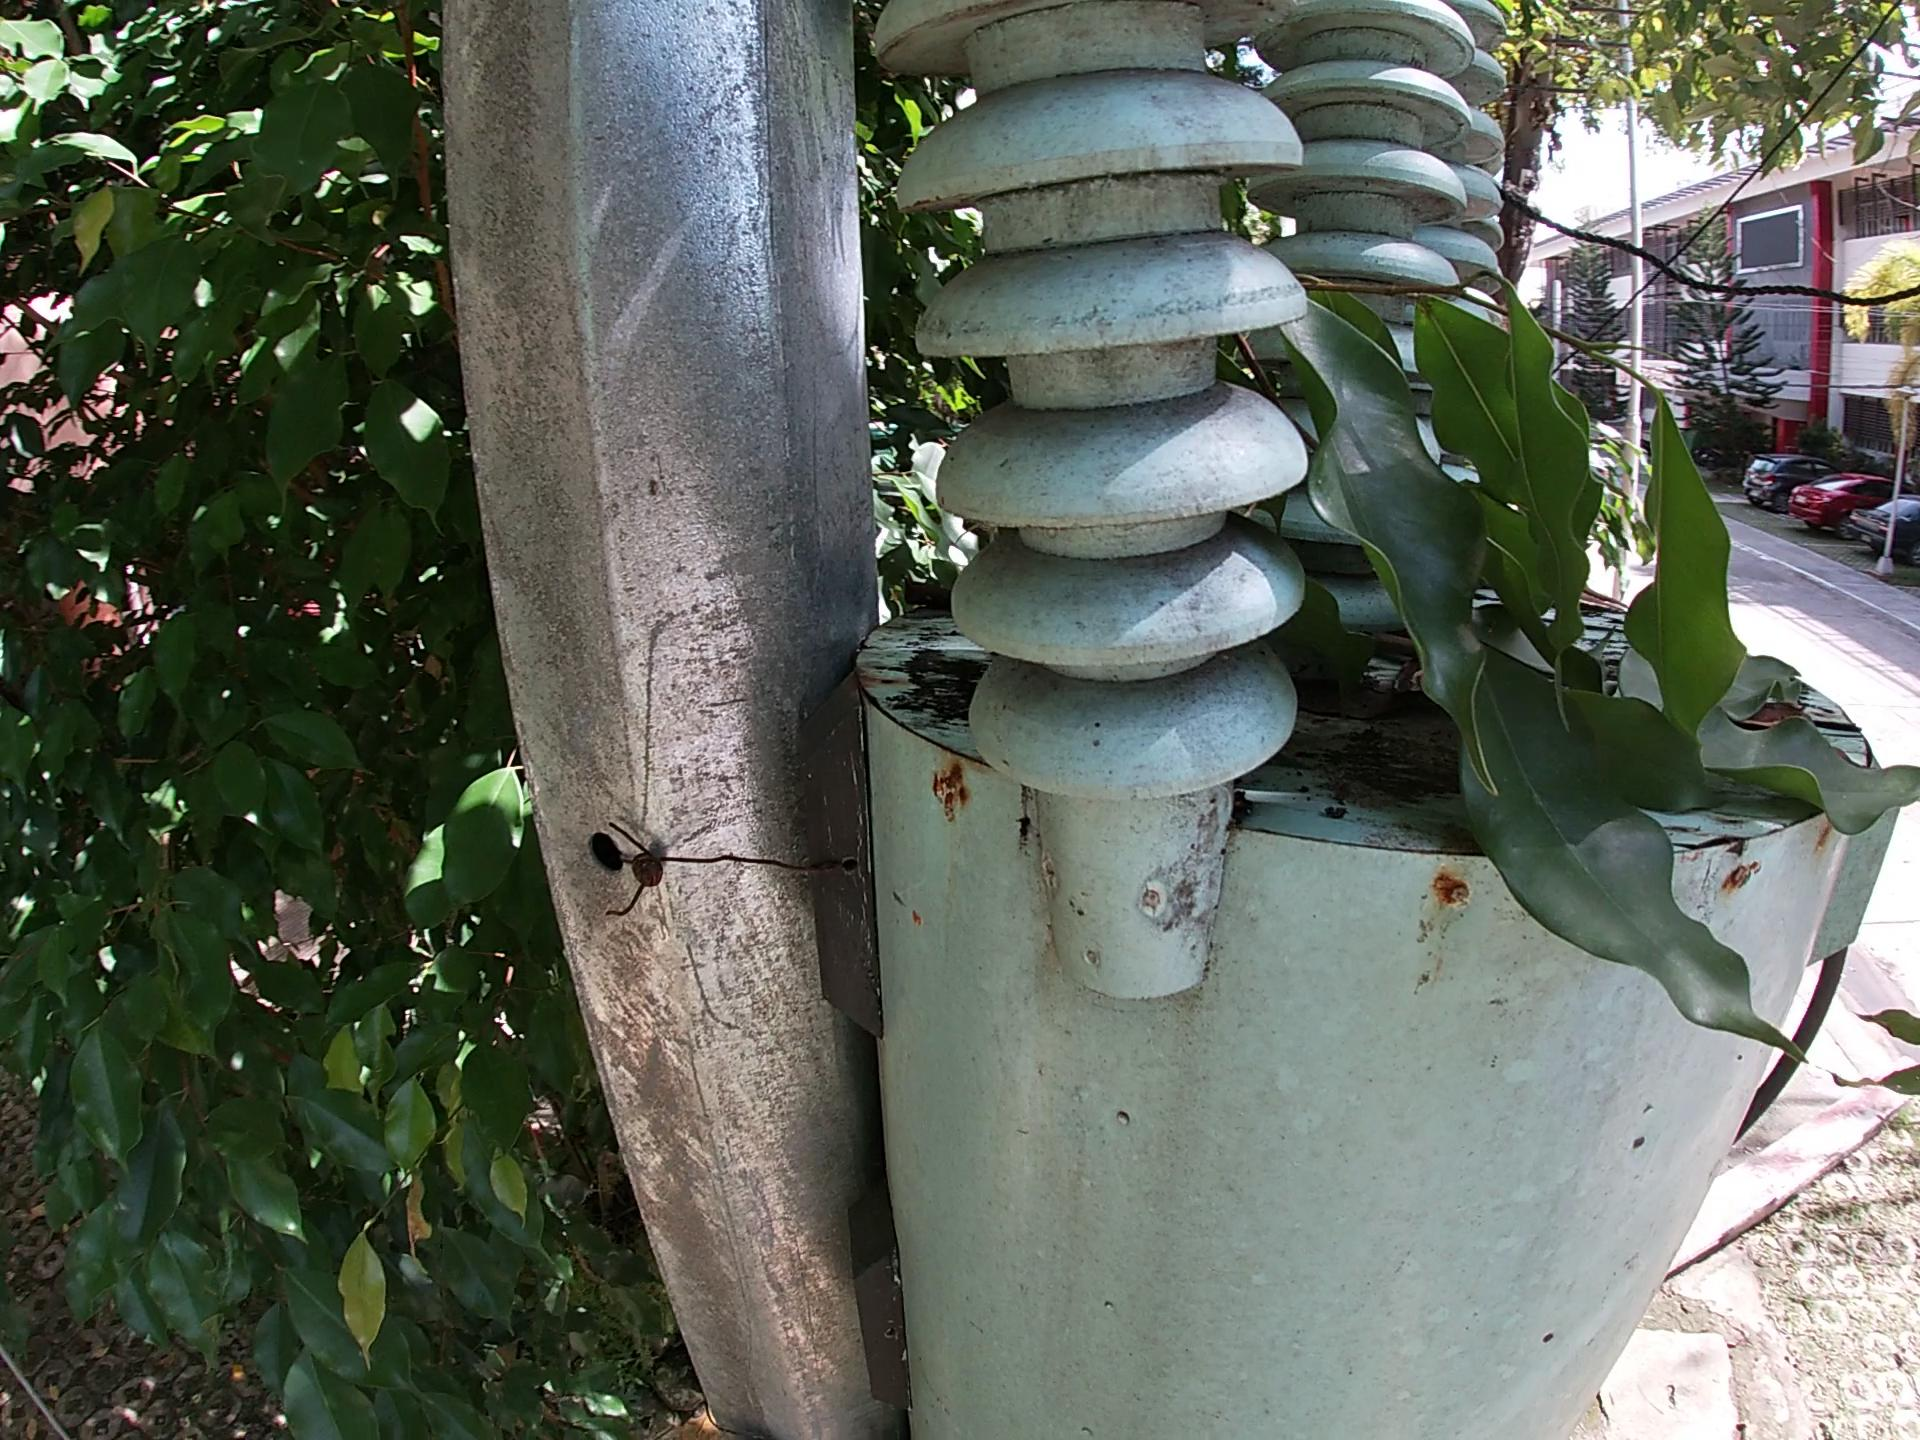branch with leaves: (1228, 237, 1909, 1088)
